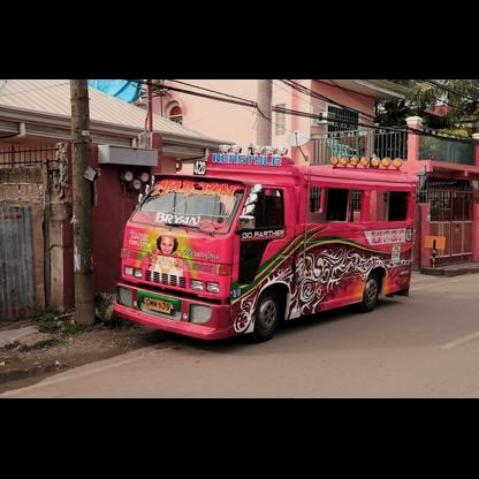jeepney: (87, 149, 423, 354)
